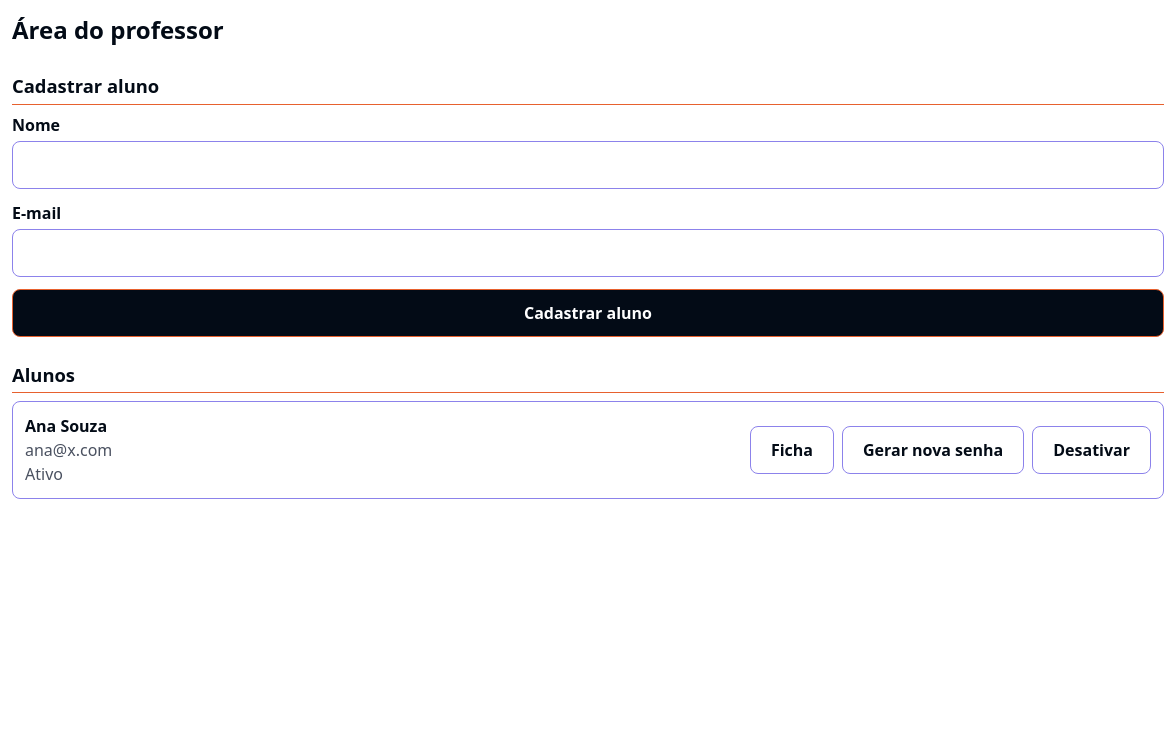
Test: AreaProfessor › copia a senha para a área de transferência
Type "Bia" into the field labelled "Nome" at (588,165), box [12,141,1164,189]
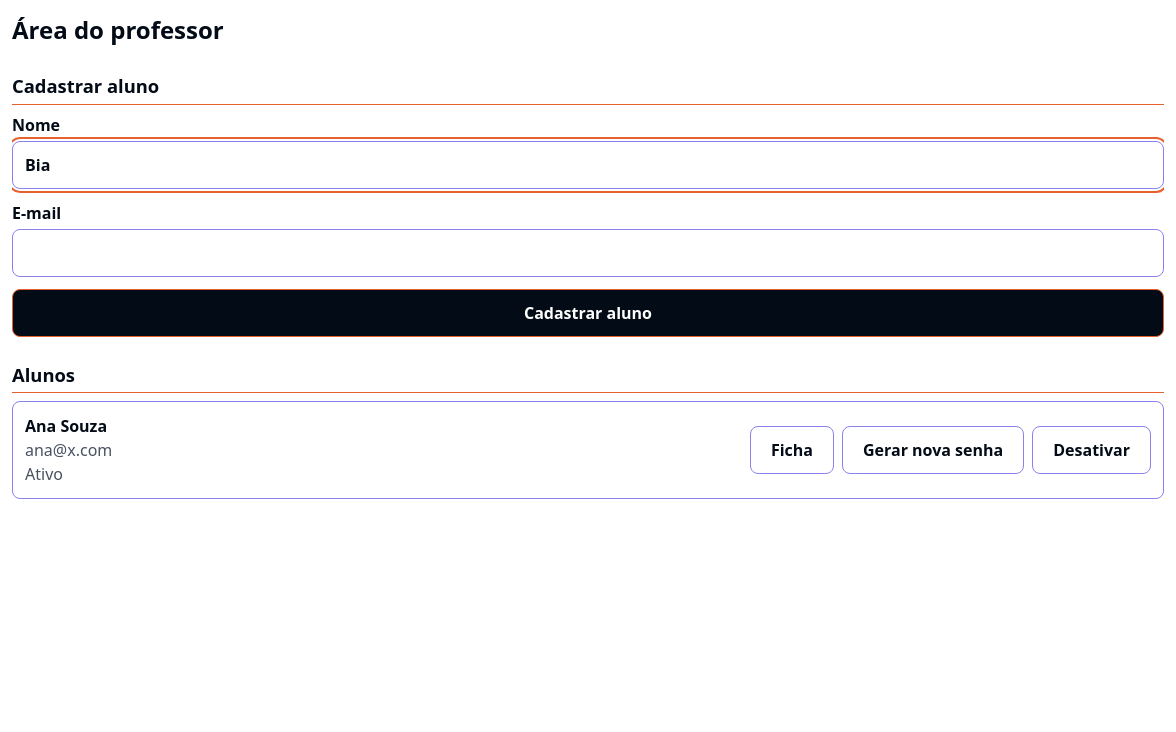
Type "bia@x.com" into the field labelled "E-mail" at (588,253), box [12,229,1164,277]
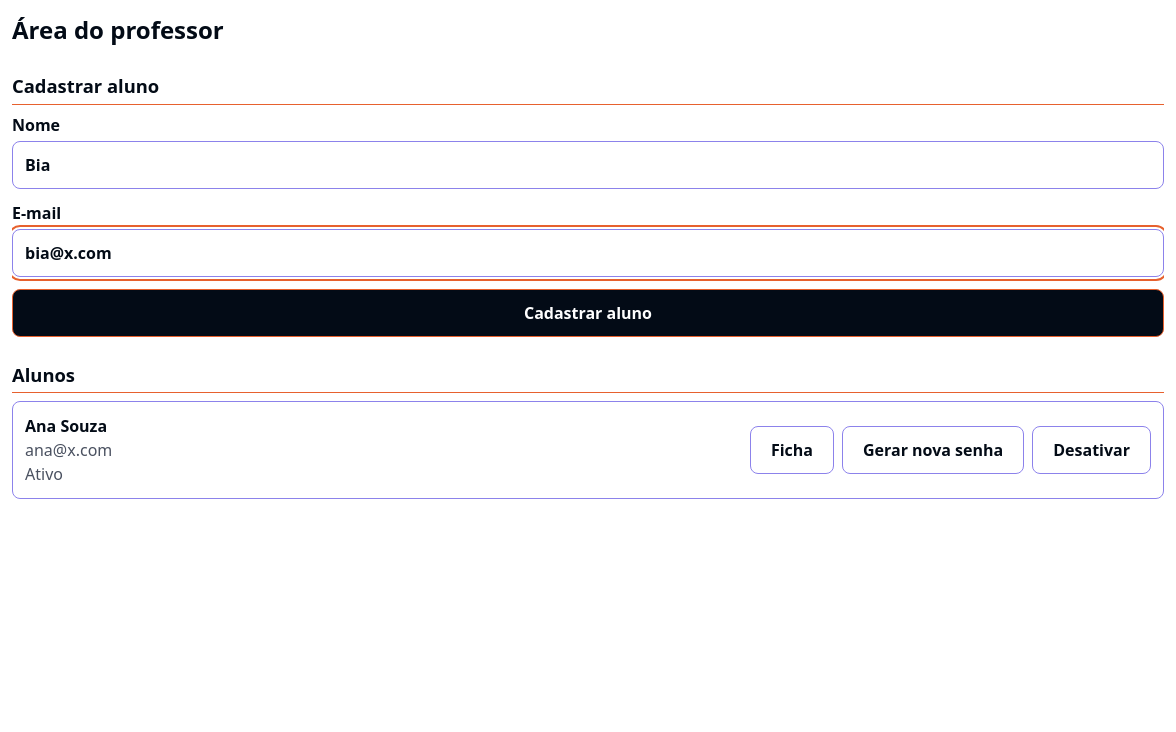
Click the button "Cadastrar aluno" at (588,313), box [12,289,1164,337]
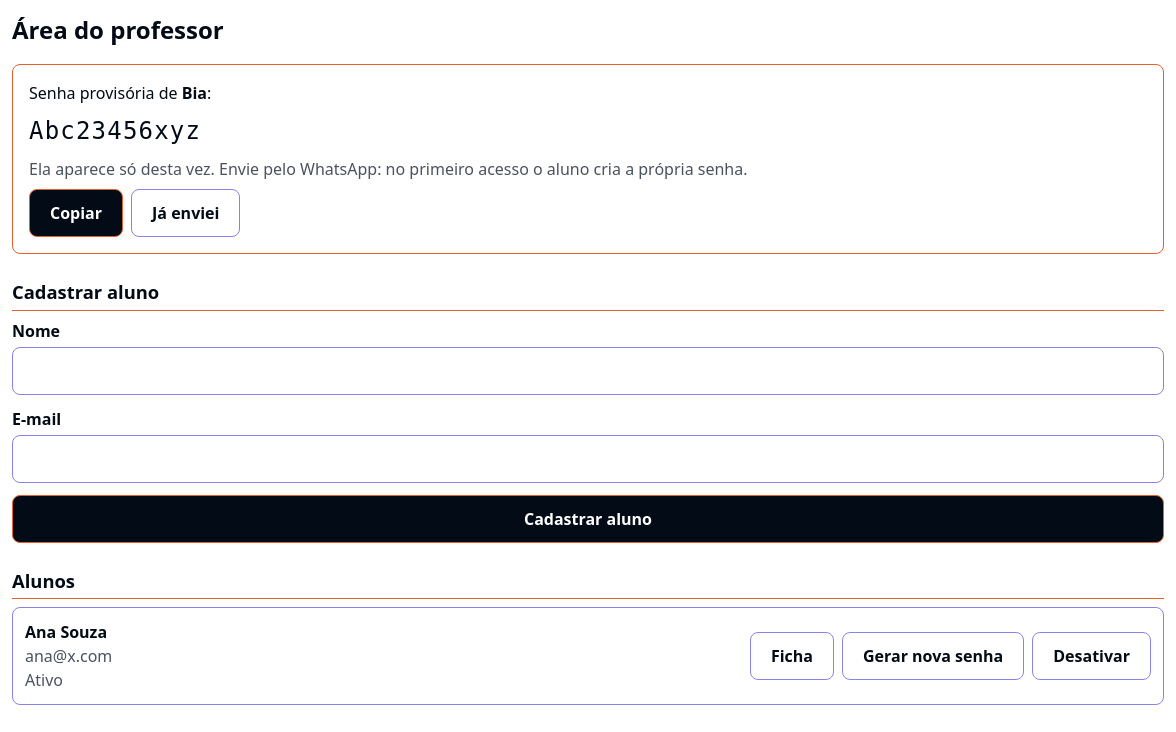
Click the button "Copiar" at (76,213), box [29,189,123,237]
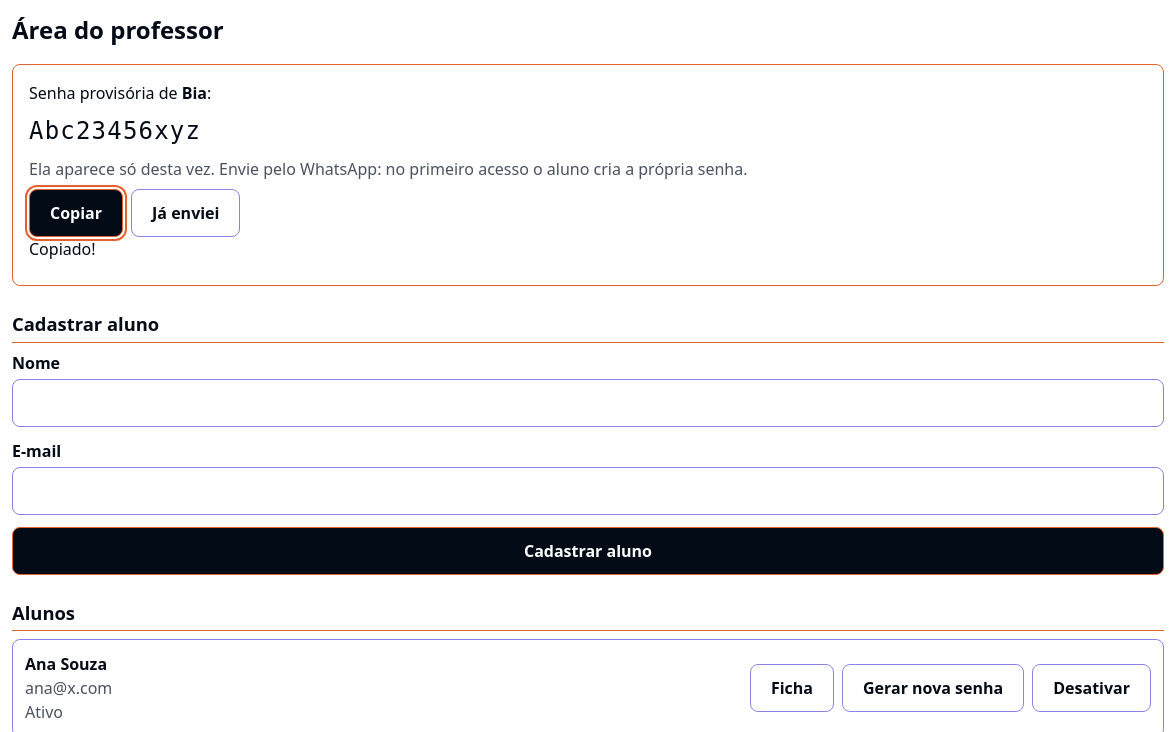
Result: the text "Copiado!" is shown at [29,238,96,260]
